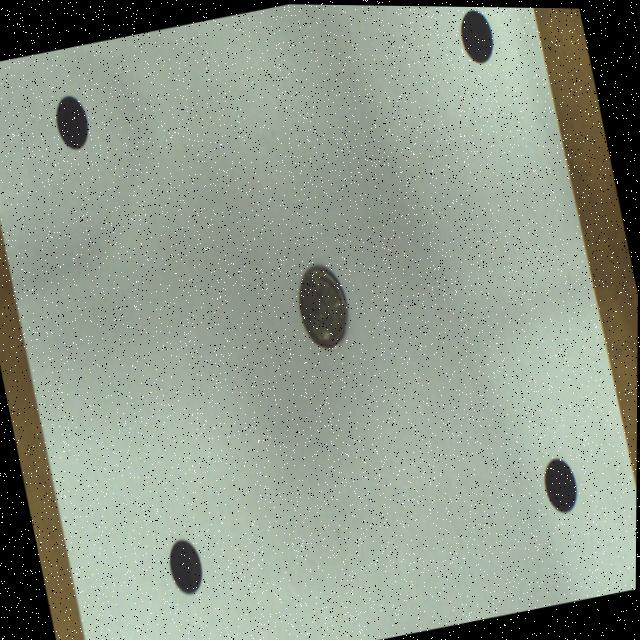head5bath: (299, 264, 348, 347)
space: (460, 7, 493, 61), (545, 456, 578, 510), (170, 538, 203, 592), (56, 95, 88, 148)
